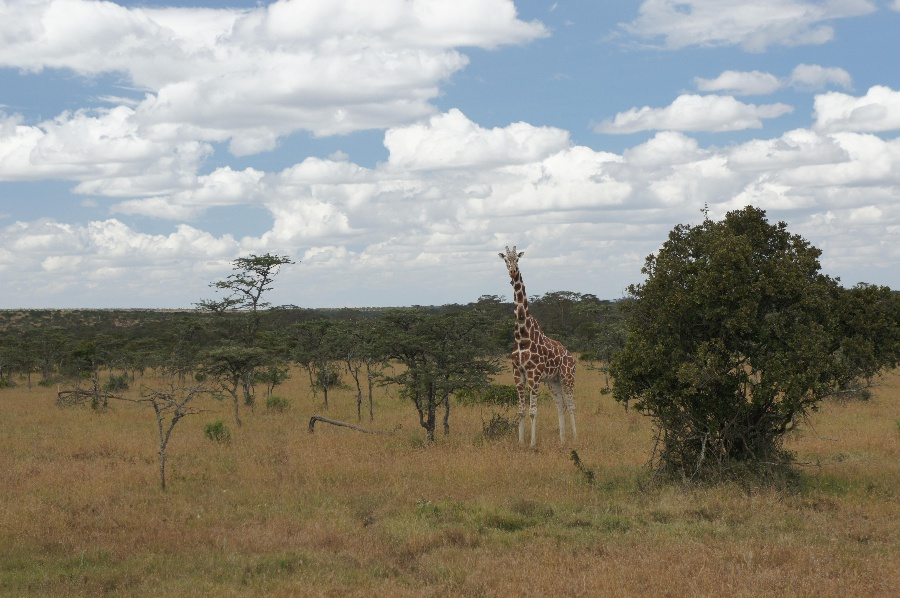giraffe: (476, 232, 597, 453)
